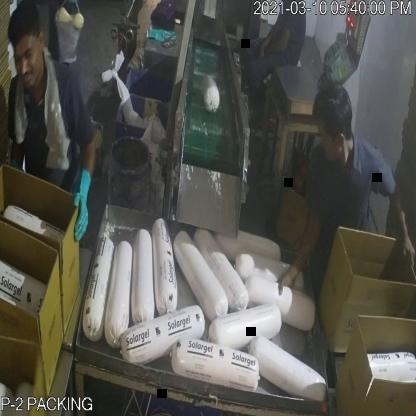glove: (71, 160, 95, 246)
no_glove: (268, 205, 324, 292), (382, 178, 416, 274), (258, 20, 294, 61)
